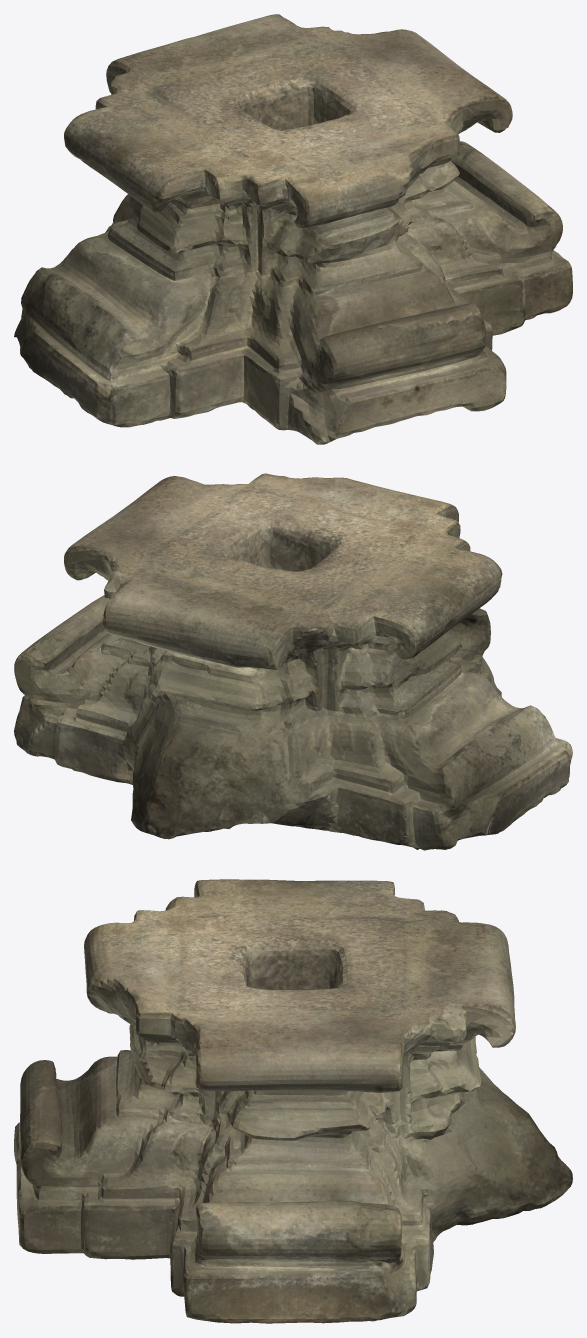
The model's file is 21_detru_final.glb.
3 views of the same model, one above another, from view 1: azimuth 30°, elevation 25°; view 2: azimuth 150°, elevation 25°; view 3: azimuth 270°, elevation 25° (orthographic). The views are drawn at different scales.
Bounding box in the file's own units: 0.2649 × 0.1248 × 0.2512.
Materials: 1 (1 with a texture image).
